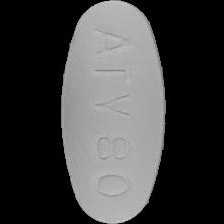61786-887: (0, 0, 224, 224)
